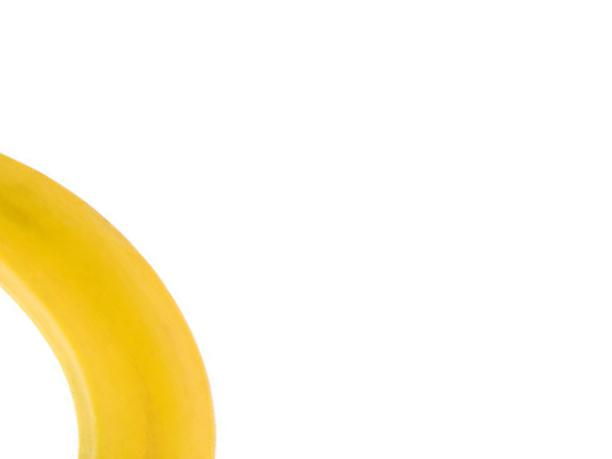banana: (1, 151, 218, 458)
